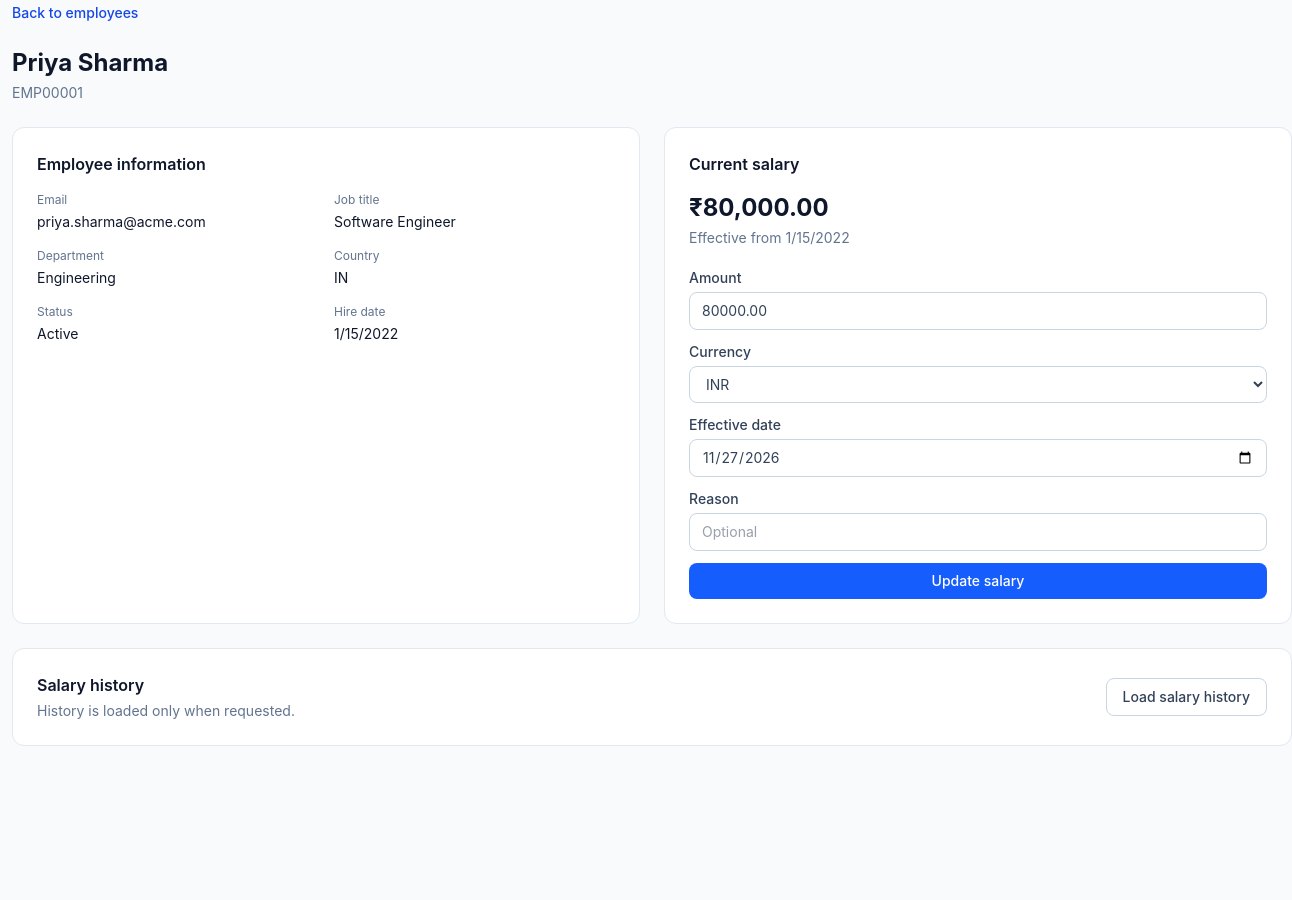
EmployeeDetails › requests and displays salary history only when requested
The width and height of the screenshot is (1292, 900).
Expected: the heading "Priya Sharma" is shown, [12,48,168,77]
Click the button "Load salary history".
click(1186, 697)  # box [1106,678,1267,716]
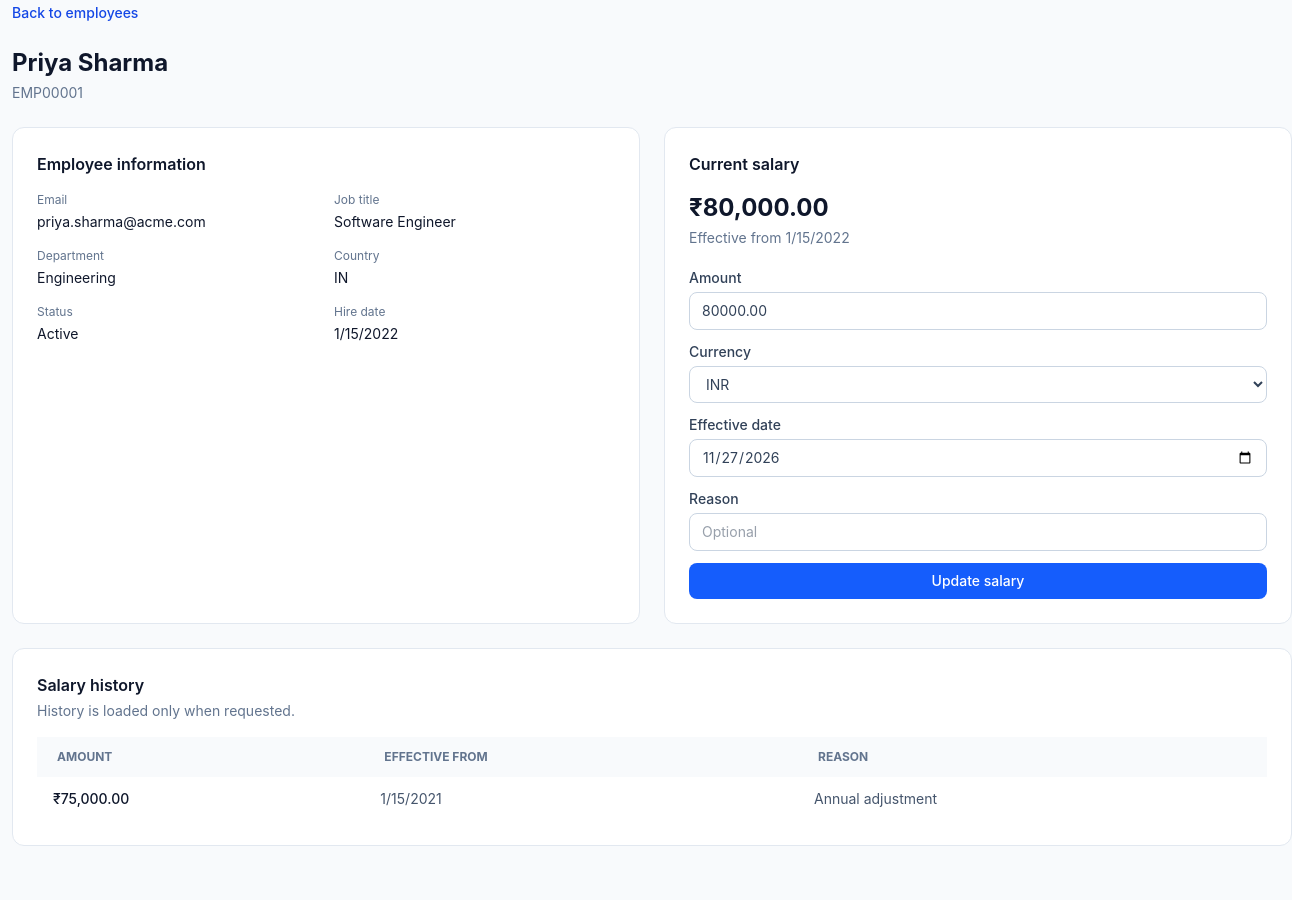
Result: the text "Annual adjustment" is shown at [798,777,1267,821]
